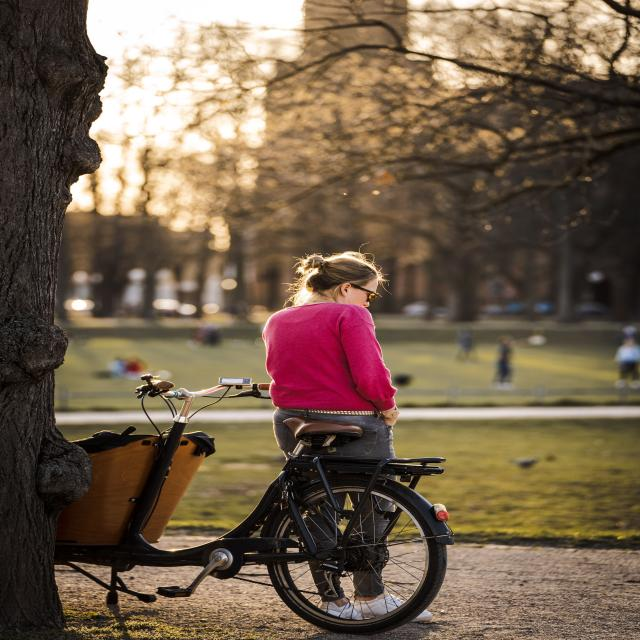adult: (263, 254, 434, 623)
